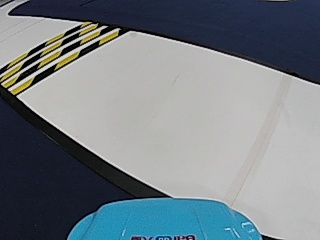bump: (7, 24, 119, 91)
